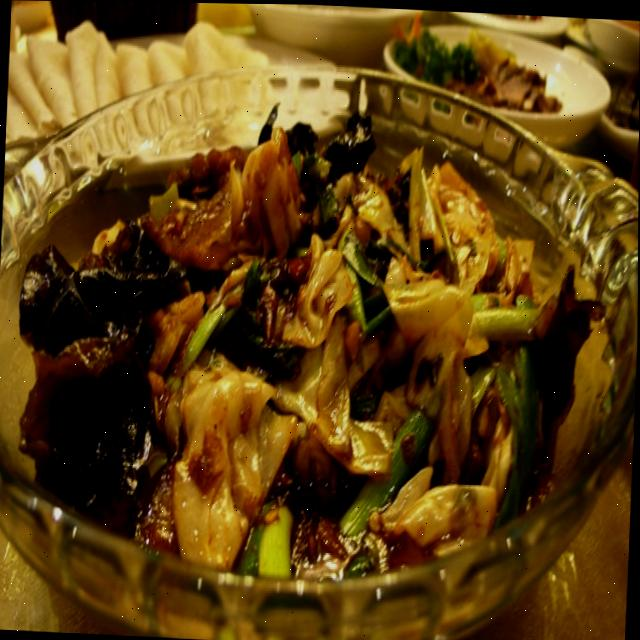猪肉菜式: (10, 81, 624, 598)
